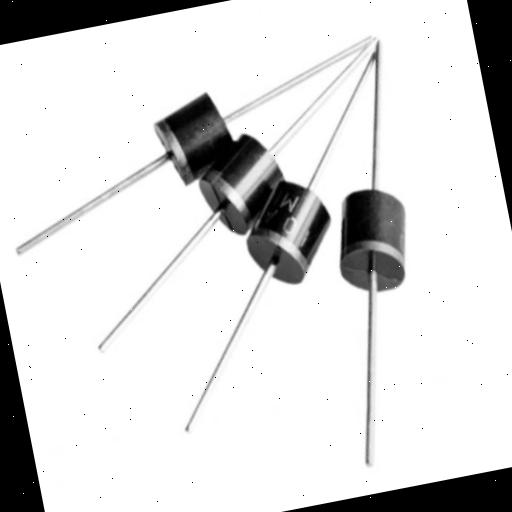DIODE: (0, 31, 460, 512), (309, 147, 438, 302), (127, 76, 261, 190), (228, 156, 338, 290), (193, 130, 307, 242)
